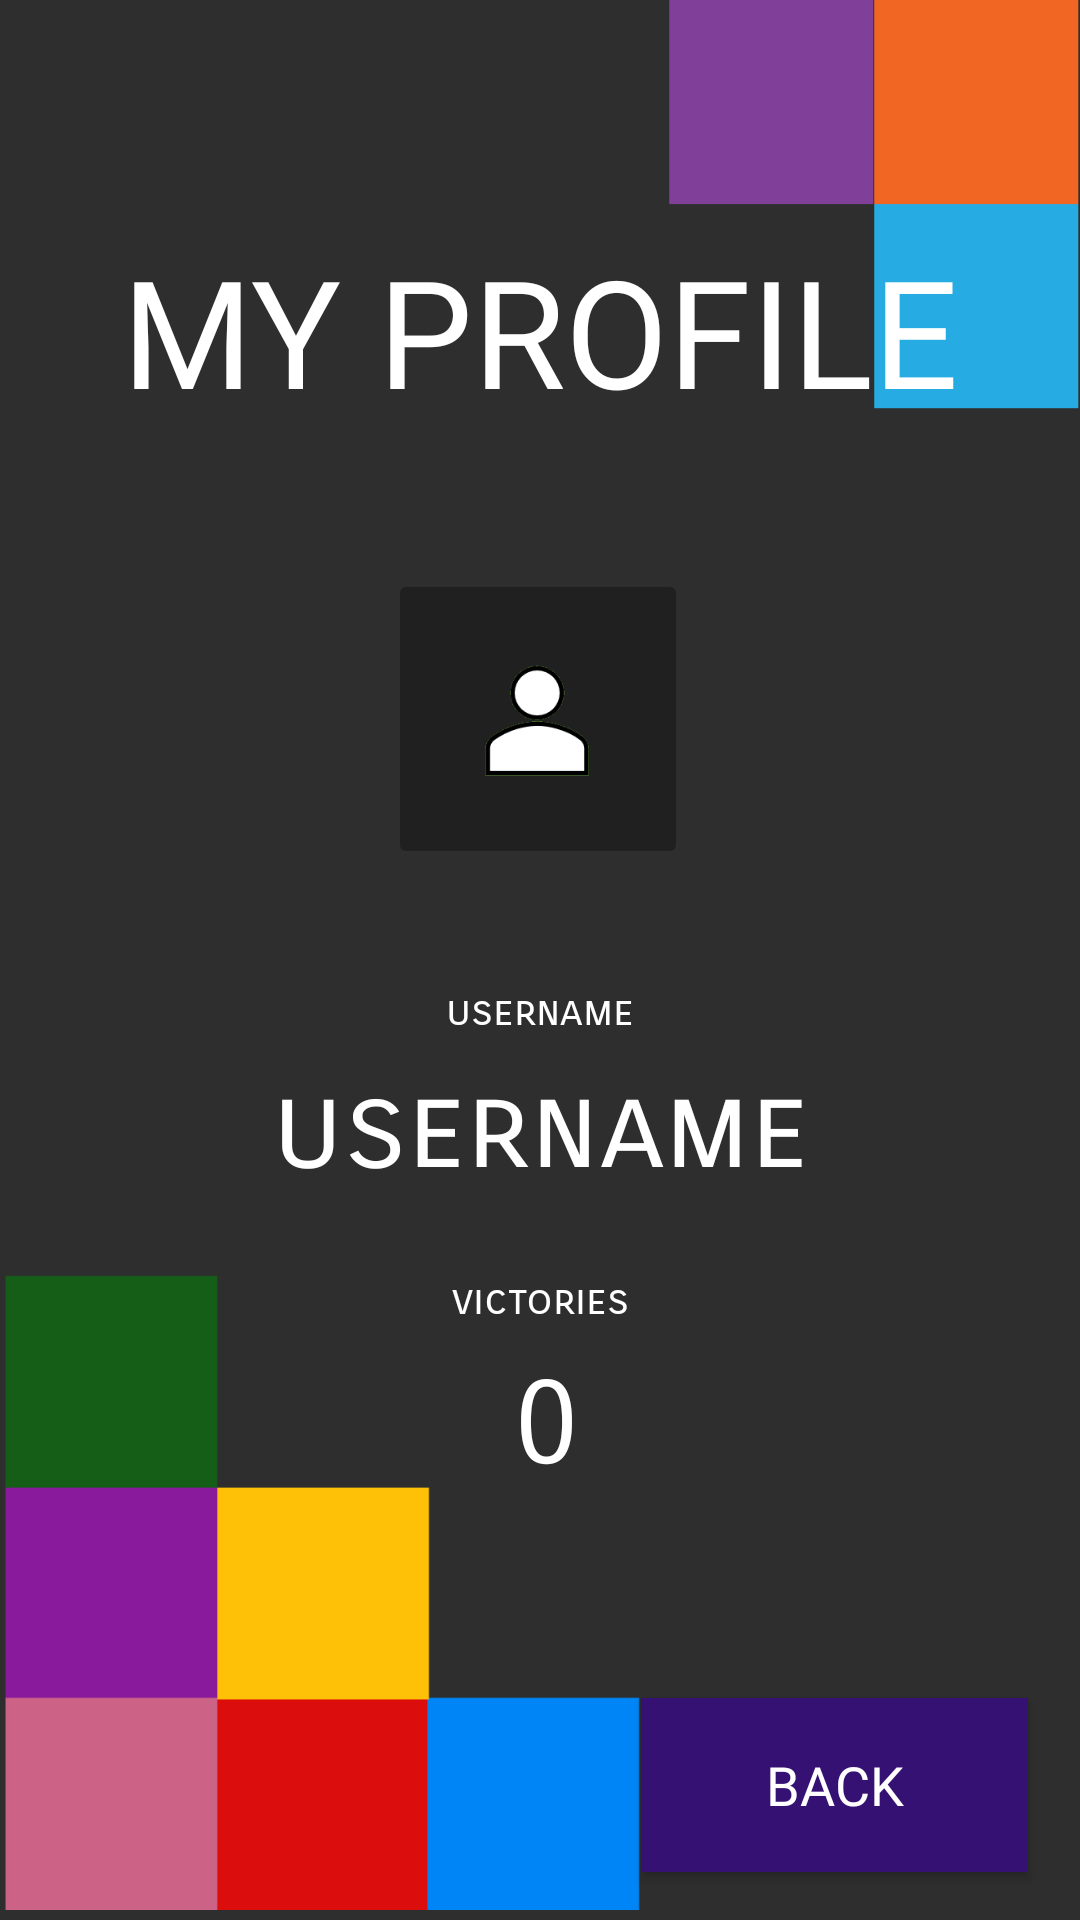

Screen size 1080x1920. Icon name, then its box in pixels as region(x1, y1, x2, y2):
profilebtn: region(485, 666, 589, 776)
